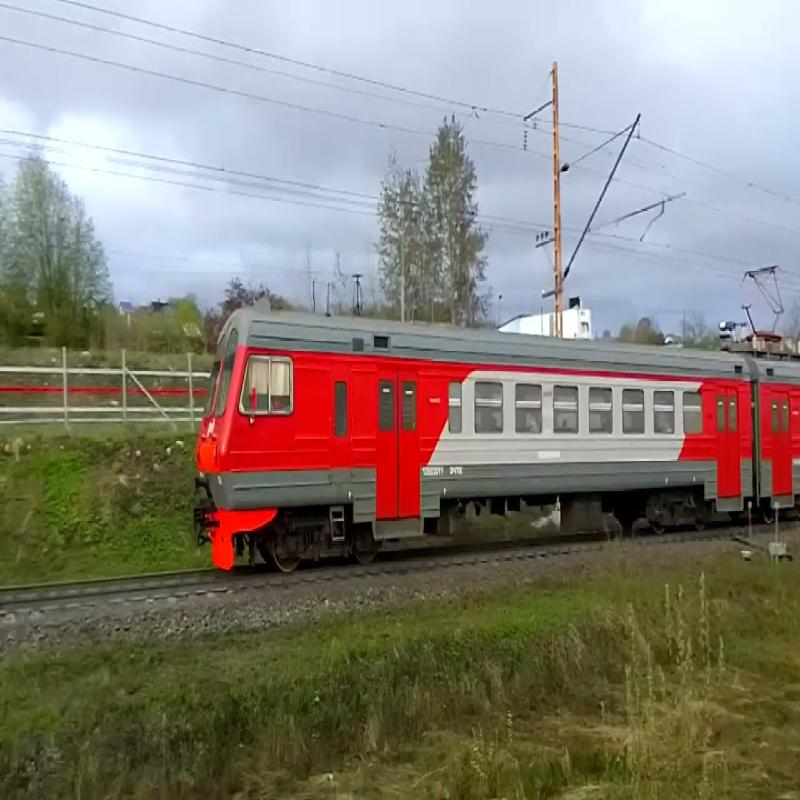train: (176, 282, 797, 583)
